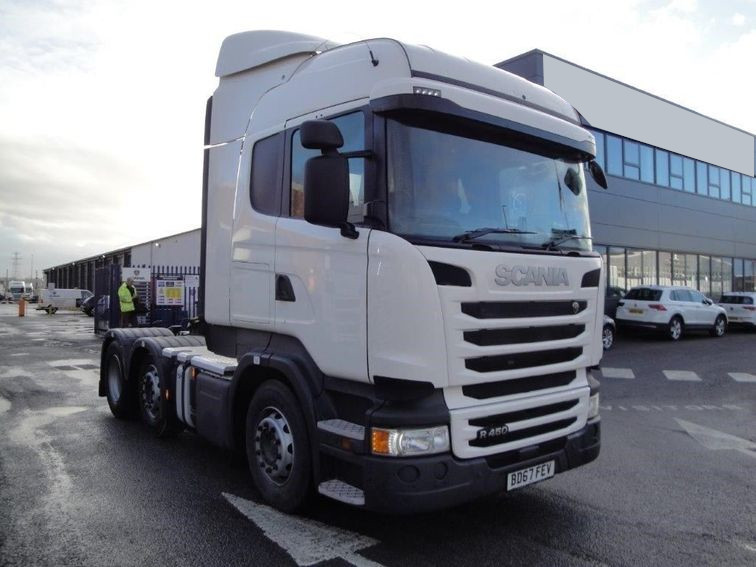Car: (616, 282, 725, 341)
Semi: (97, 29, 606, 517)
